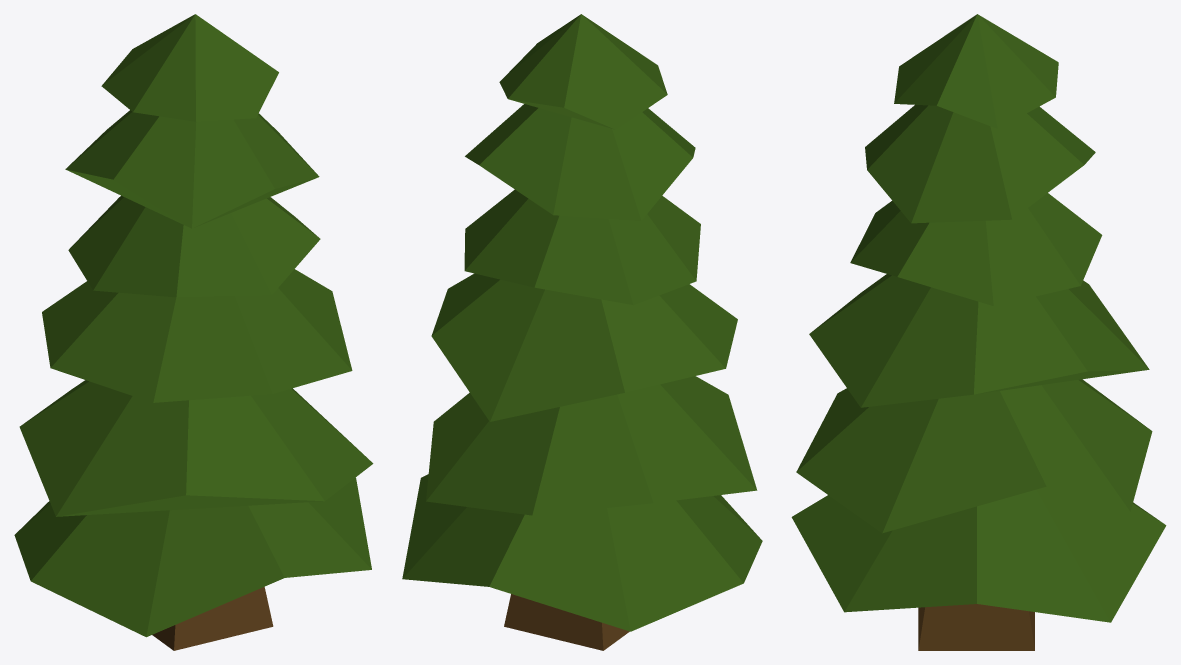
The model's file is tree_05.glb.
3 renders of one model, left to right at view 1: azimuth 30°, elevation 25°; view 2: azimuth 150°, elevation 25°; view 3: azimuth 270°, elevation 25°, orthographic.
Visible parts, largest first — view 1: Tree_05; view 2: Tree_05; view 3: Tree_05.
Part boxes in pixels (box(x1,y1,x2,y2)): Tree_05: box(14, 14, 373, 650); Tree_05: box(402, 14, 762, 650); Tree_05: box(791, 14, 1166, 650).
Bounding box in the file's own units: 2.01 × 3.57 × 1.98.
1 material, 1 textured.
